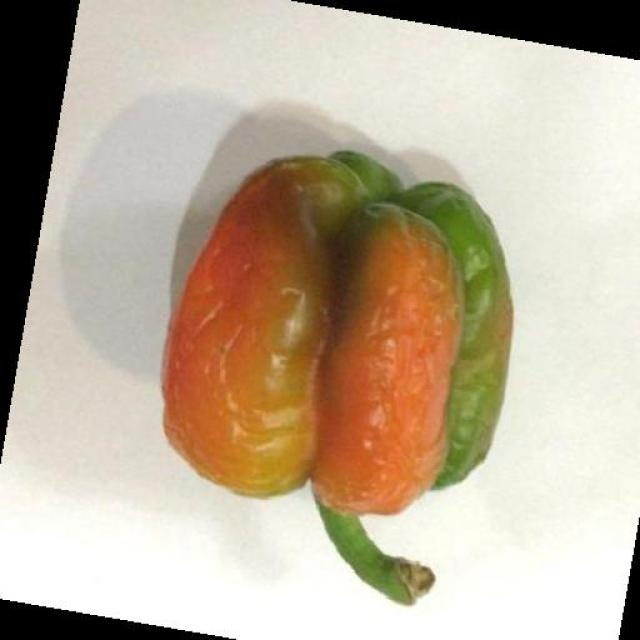Stale_Capsicum: (189, 142, 502, 528)
